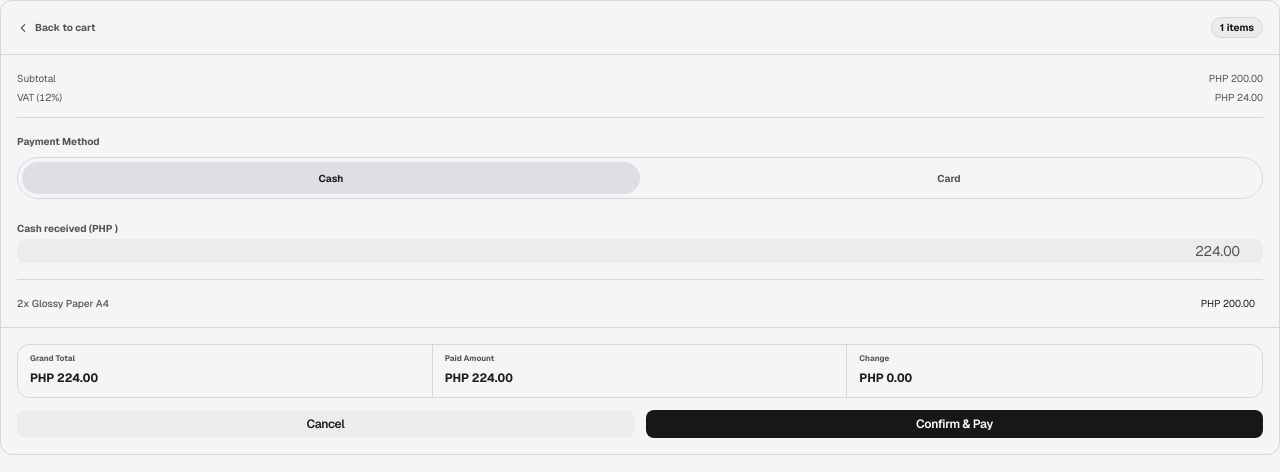
Scenario: the cash tendered drives the totals strip › reports the change when the customer overpays, and allows the sale
The width and height of the screenshot is (1280, 472).
In the number field labelled "Cash received (PHP )": (640,251) [17,239,1263,263], type "250"
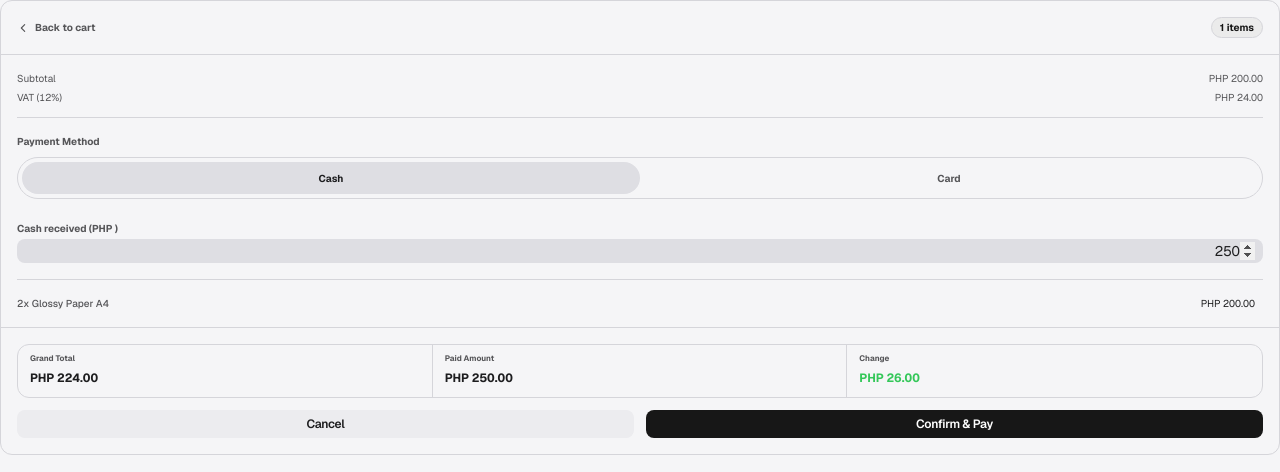
expect the text "Change" is shown: met, box [859,354,889,364]
expect the text "PHP 26.00" is shown: met, box [859,370,920,386]
